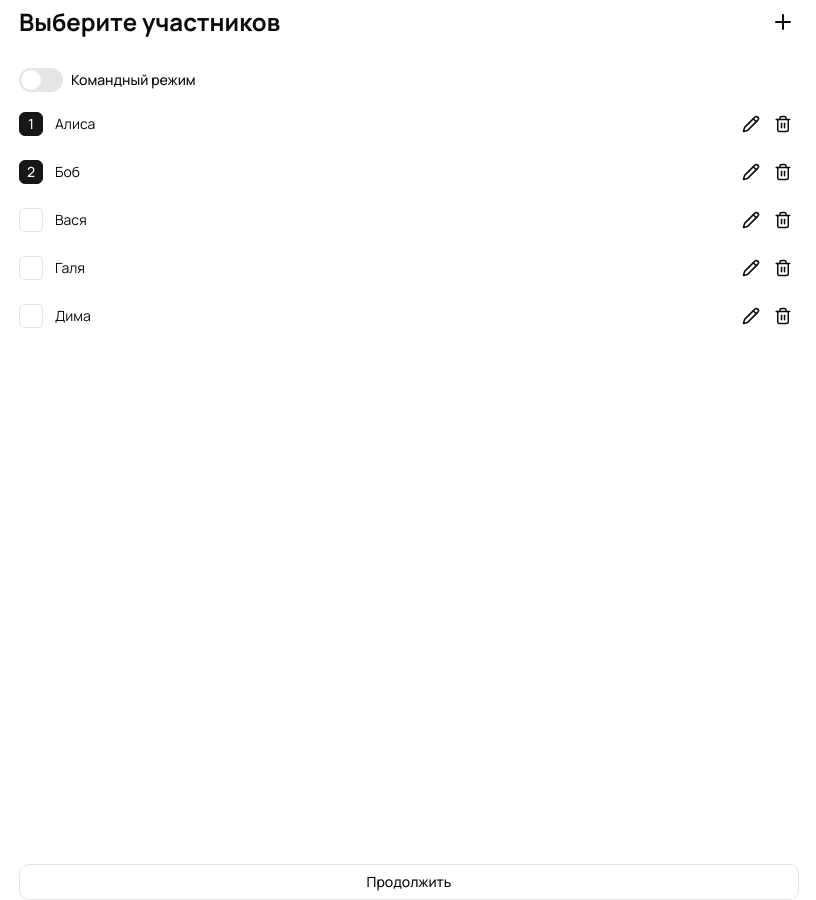
Test: Participants page › hides the selection counter until team mode is enabled
This screenshot has width=816, height=900.
expect the text "2 из 4" is not shown: met
Click the switch named "Командный режим": (41, 80) [19,68,63,92]
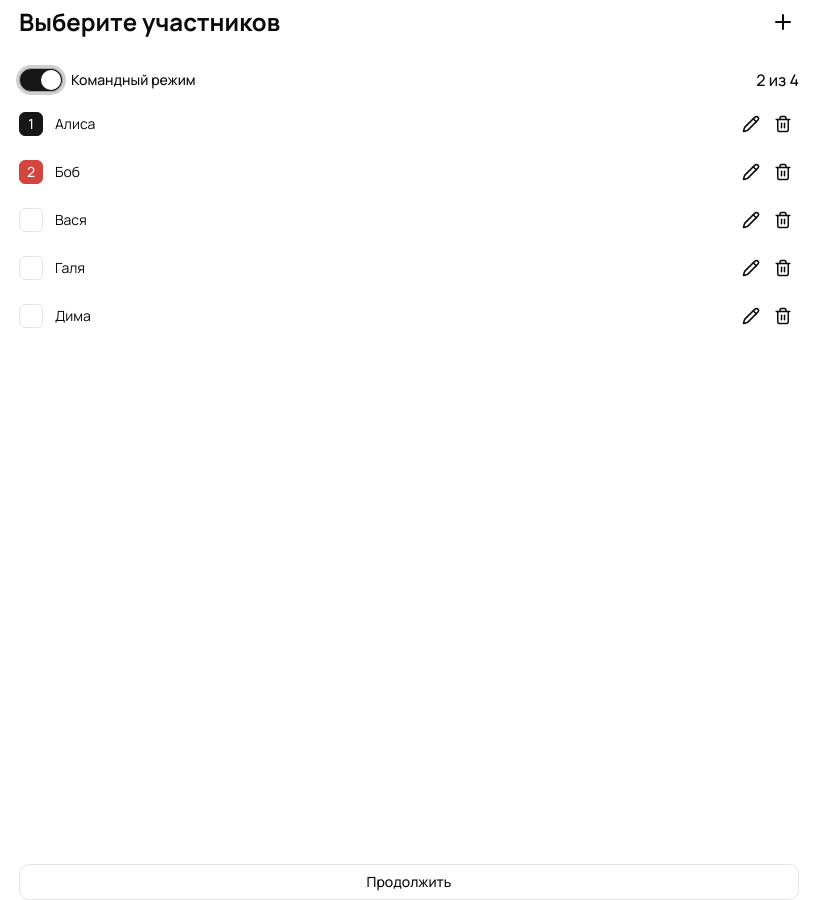
expect the text "2 из 4" is shown: met, box [756,68,799,92]
